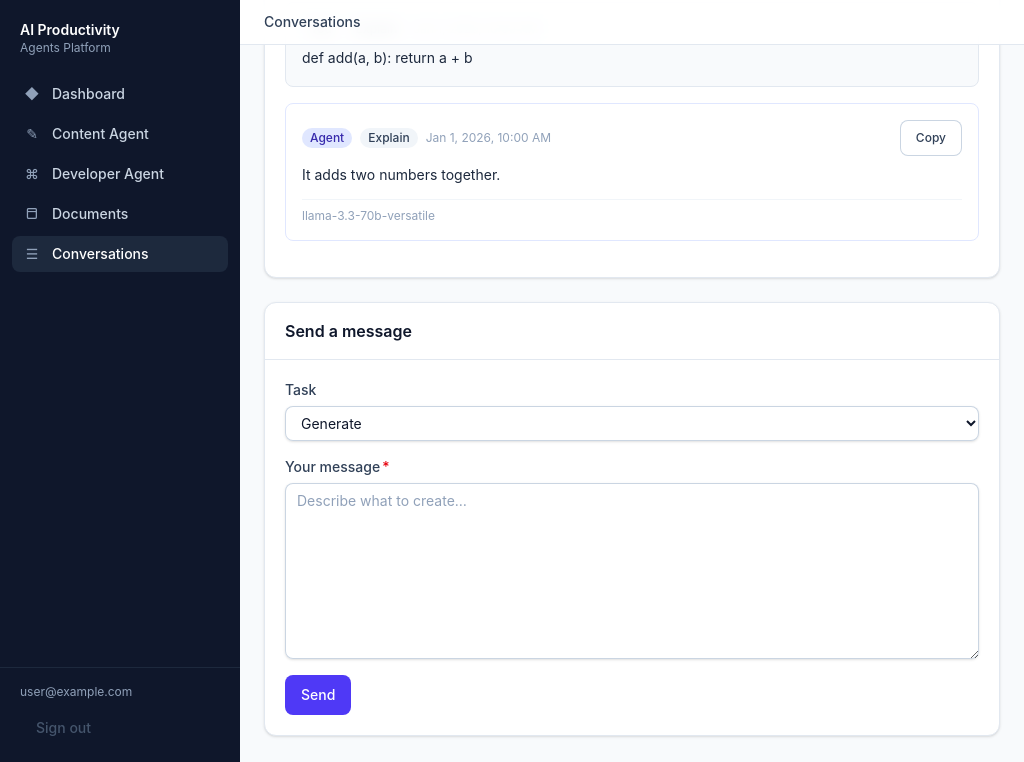
Scenario: Conversation detail › surfaces a provider failure without inventing a reply
(page scrolled)
In the text box labelled "Your message*": (632, 570) [285,482,979,658], type "x = 1"
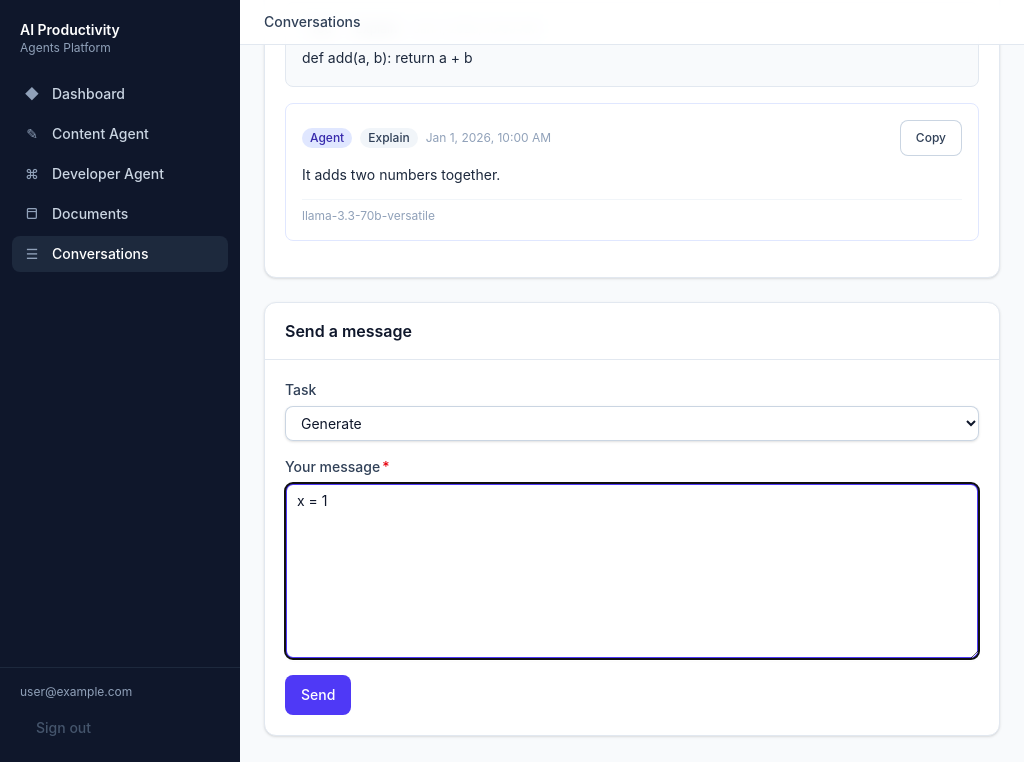
Click the button "Send": (318, 694) [285,674,351,714]
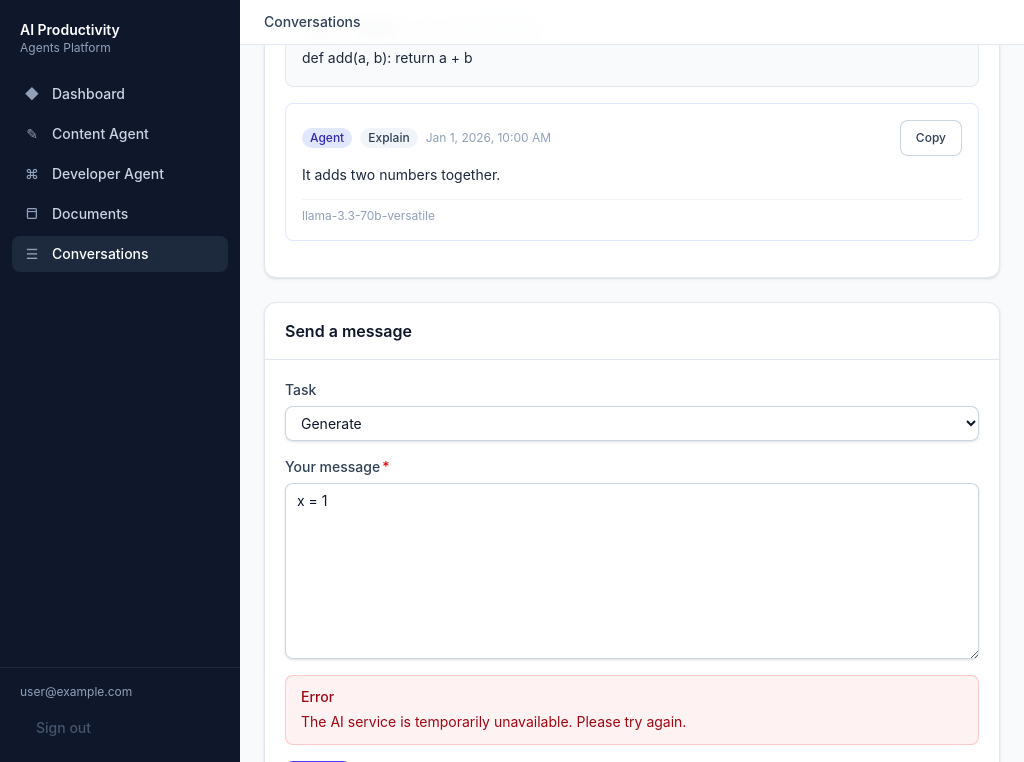
Now the message shows "temporarily unavailable", box [301,712,686,730]
